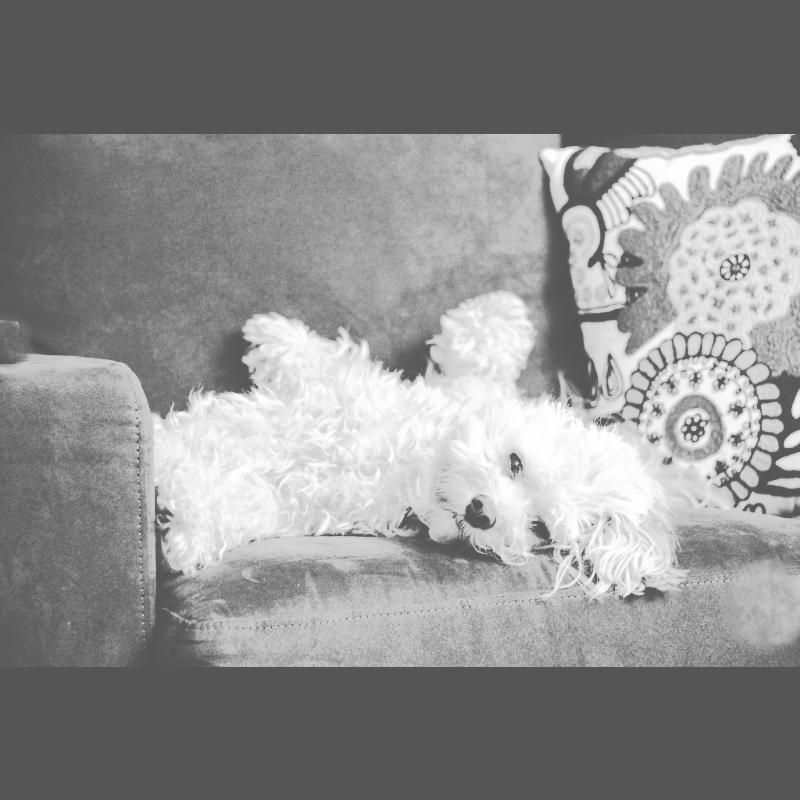pillow: (534, 163, 780, 465)
